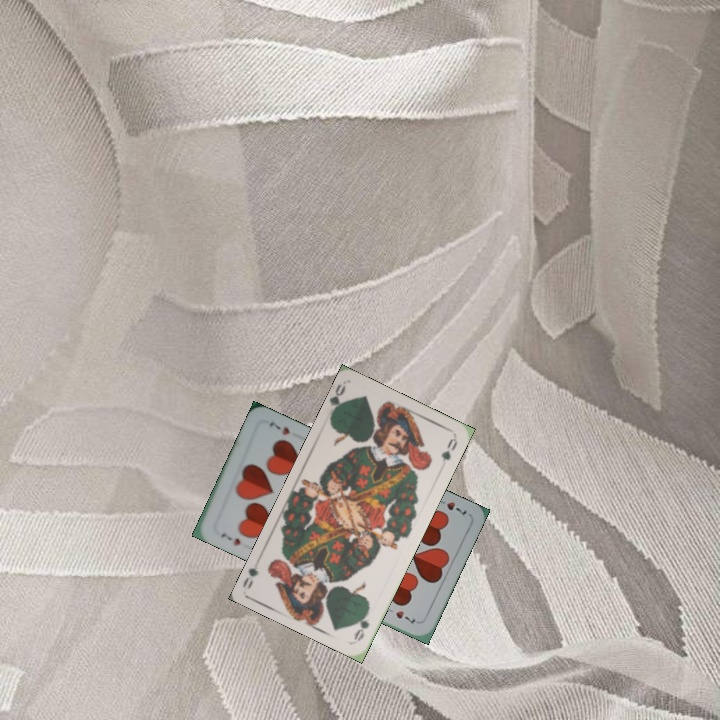GO: (326, 381, 349, 420), (350, 604, 372, 644)
H7: (432, 494, 470, 517), (217, 528, 243, 548)
